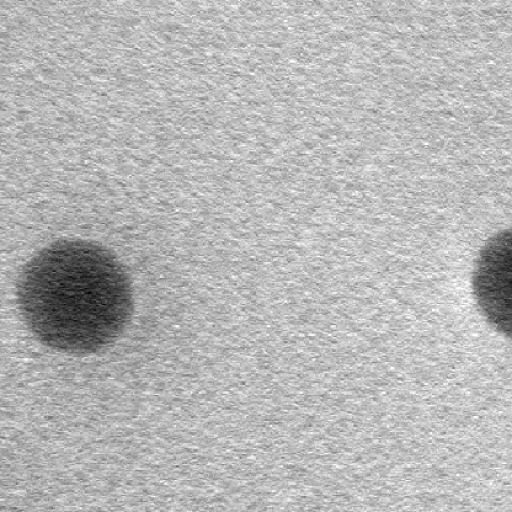Nanoparticles: (17, 234, 131, 356), (473, 228, 512, 337)
